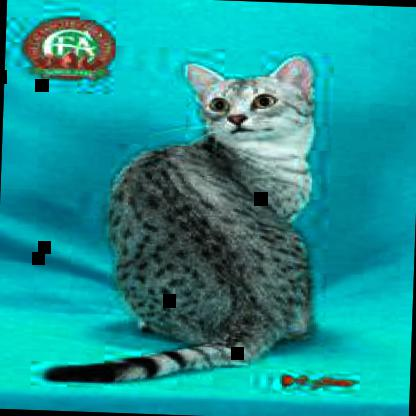cat: (44, 48, 320, 390)
